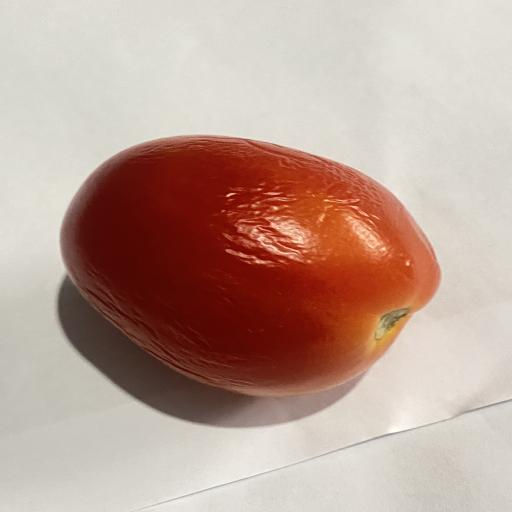spoiled: (61, 135, 440, 397)
